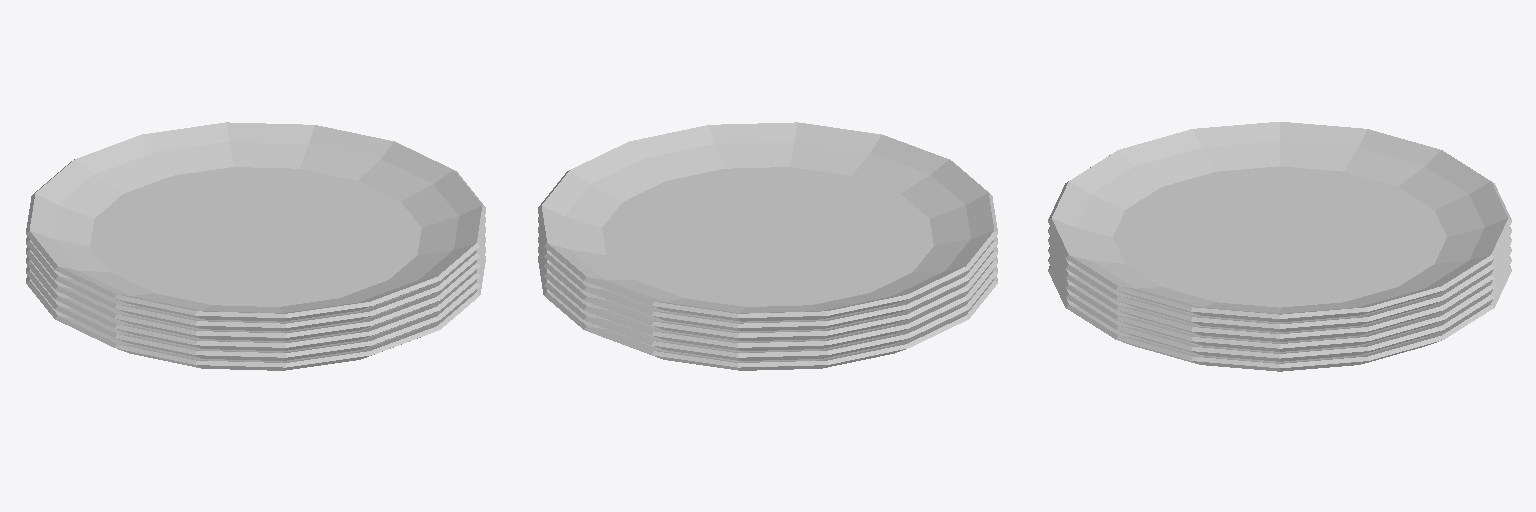
File: PlateStack_1.obj
3 views of the same model, side by side, from view 1: azimuth 30°, elevation 25°; view 2: azimuth 150°, elevation 25°; view 3: azimuth 270°, elevation 25° (orthographic).
Parts seen in each view (by area): view 1: pSphere50; view 2: pSphere50; view 3: pSphere50.
Part boxes in pixels (left/top/right/bottom): pSphere50: left=26, top=122, right=485, bottom=370; pSphere50: left=538, top=122, right=997, bottom=370; pSphere50: left=1048, top=122, right=1511, bottom=371.
Size of the model in its own units: 4.4 by 0.7923 by 4.4.